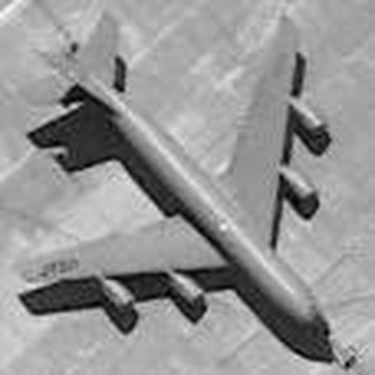airplane: (2, 12, 343, 346)
